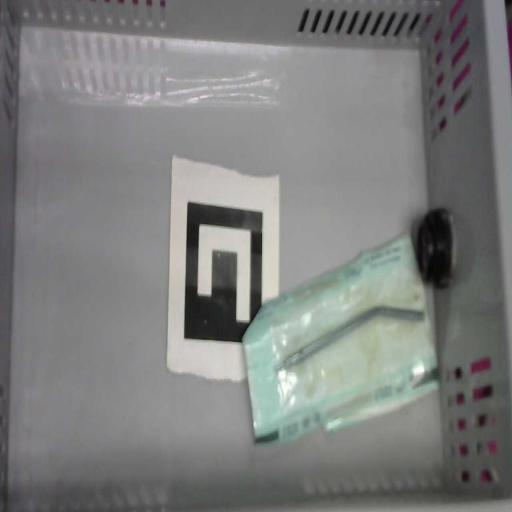QR: (166, 157, 280, 381)
triple_syringe: (244, 236, 440, 444)
